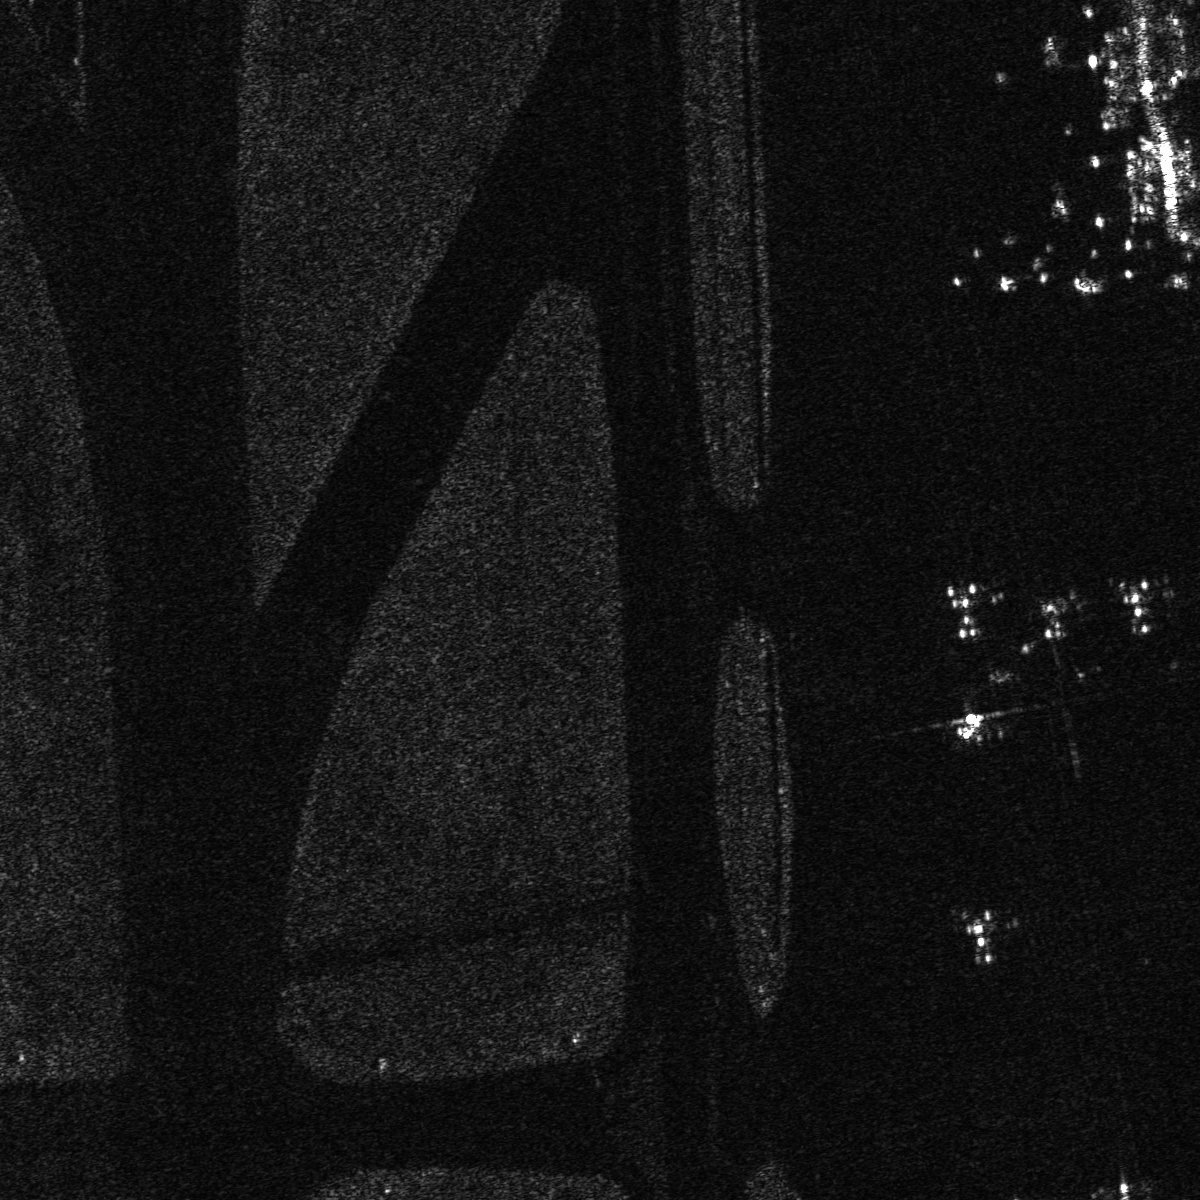ARJ21: (952, 898, 1005, 973), (947, 698, 1003, 744)
other: (1015, 587, 1092, 657), (938, 571, 985, 649), (1116, 578, 1165, 647)
